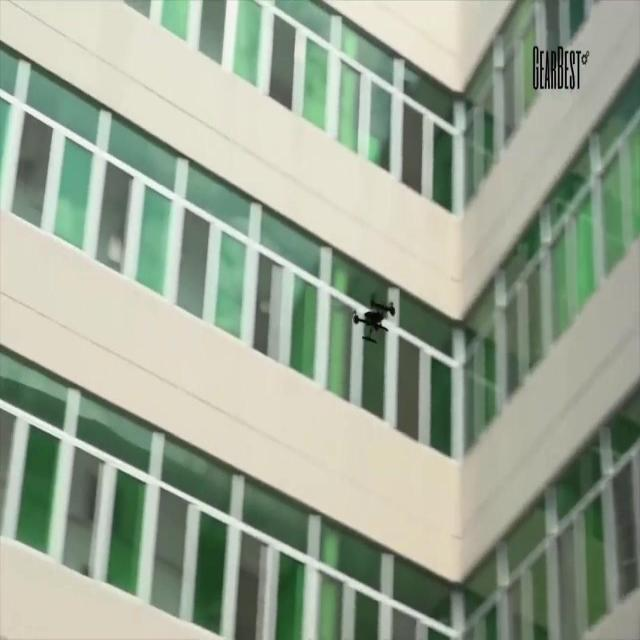drone: (352, 291, 396, 348)
